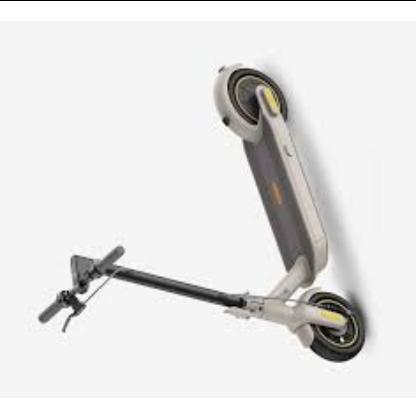bike: (35, 62, 367, 365)
